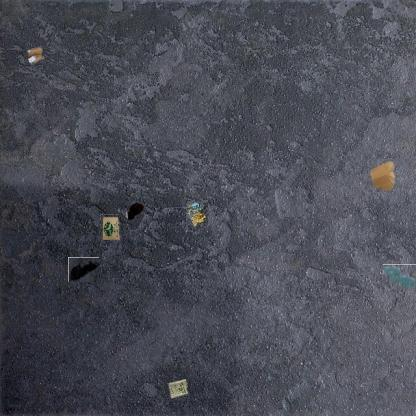dirty: (368, 158, 396, 192), (68, 257, 99, 282), (186, 200, 208, 228), (164, 378, 188, 402), (100, 214, 120, 240), (24, 44, 46, 66)
liquid: (382, 264, 416, 289), (123, 202, 145, 220)
